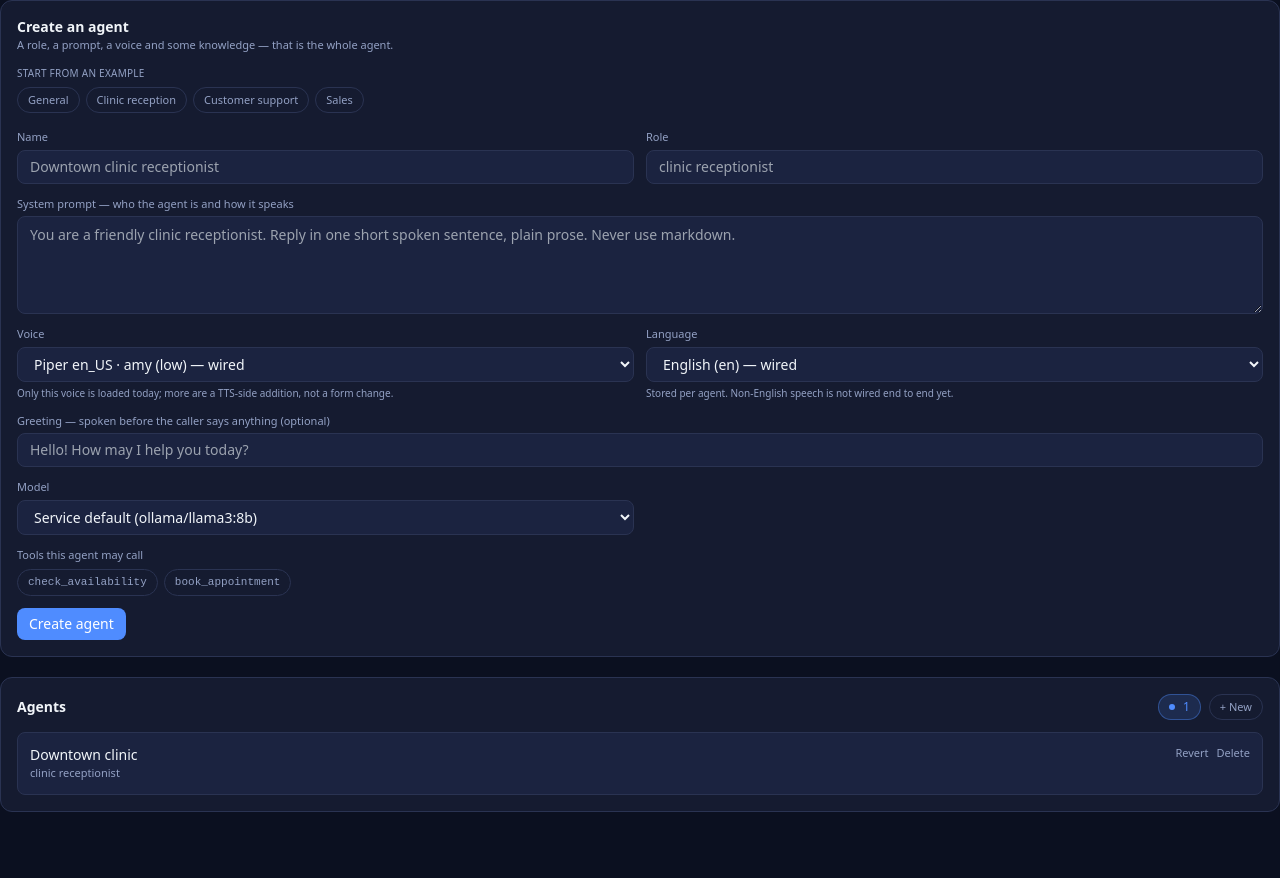
Test case: AgentBuilder › reveals the knowledge base once an agent is selected
Step 1. Click the text "Downtown clinic" → (84, 755), box [30,745,138,765]
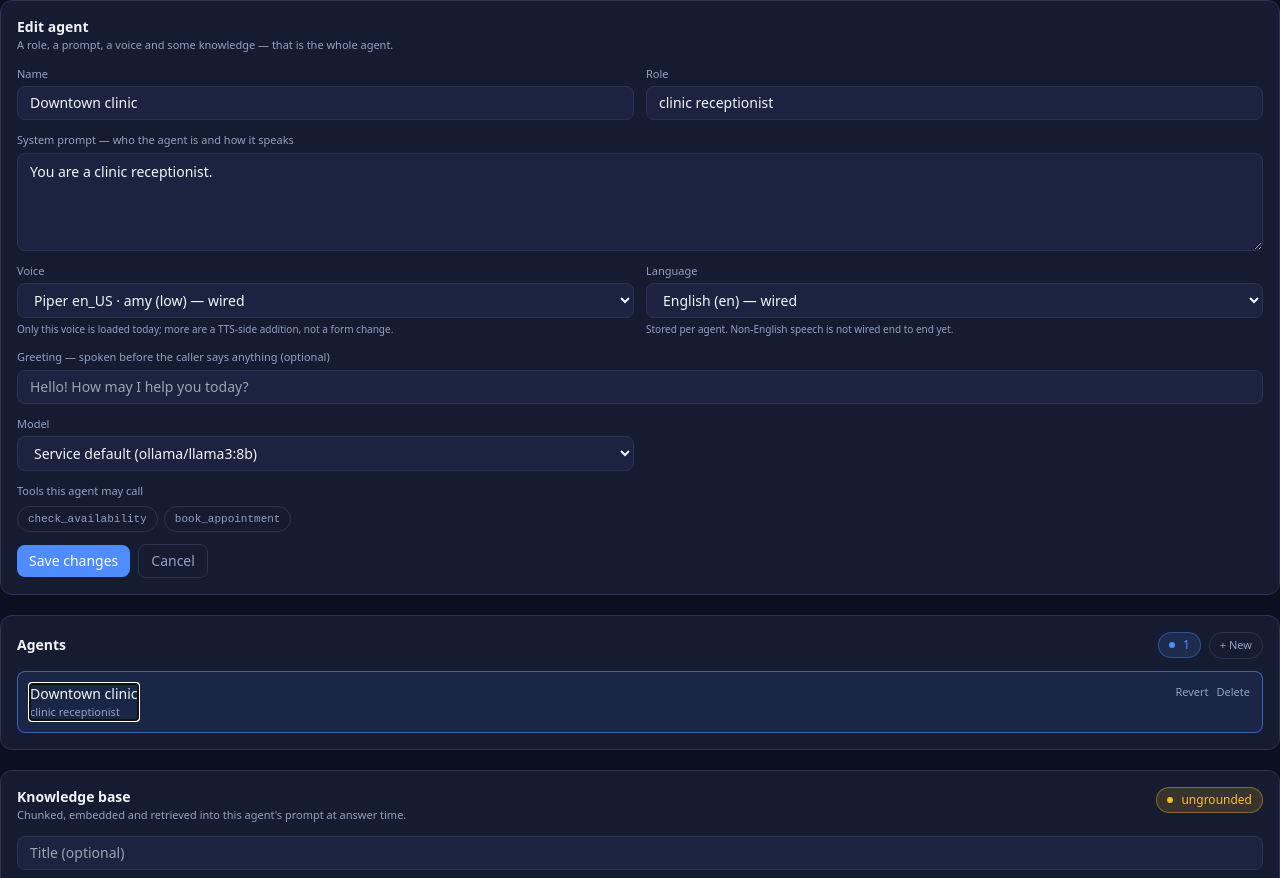
Result: the element with test id "knowledge-count" reads "ungrounded" at [1181,791,1252,808]
